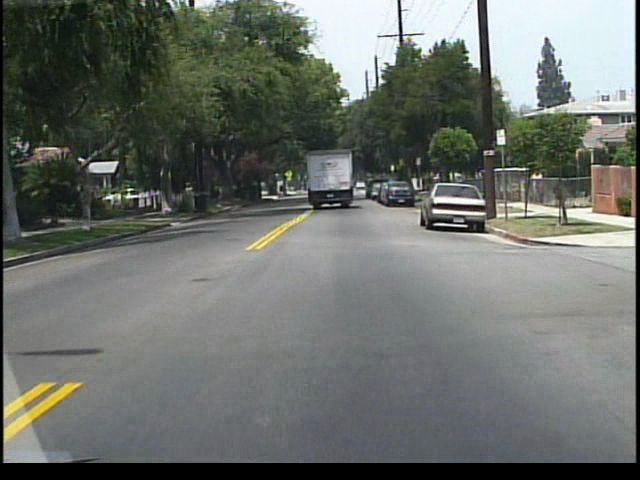person: (528, 164, 545, 202)
